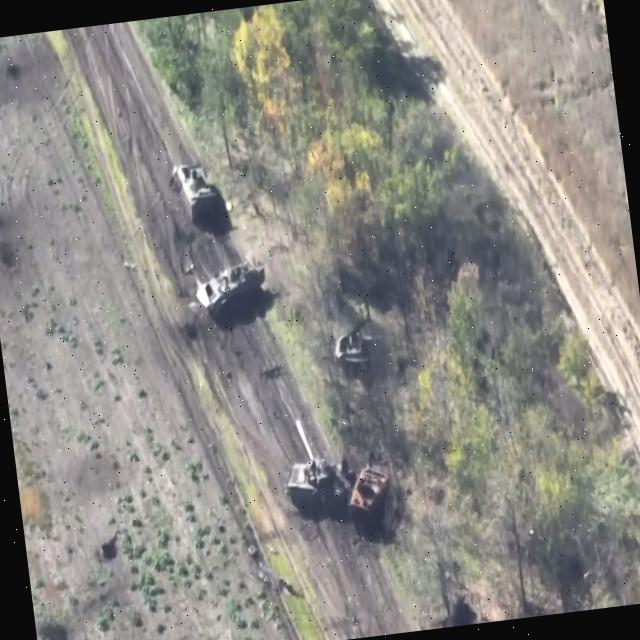AIFV: (194, 256, 270, 318), (175, 161, 223, 227), (334, 331, 391, 380)
Destroyed: (346, 460, 398, 533)
MBT: (278, 416, 350, 513)
